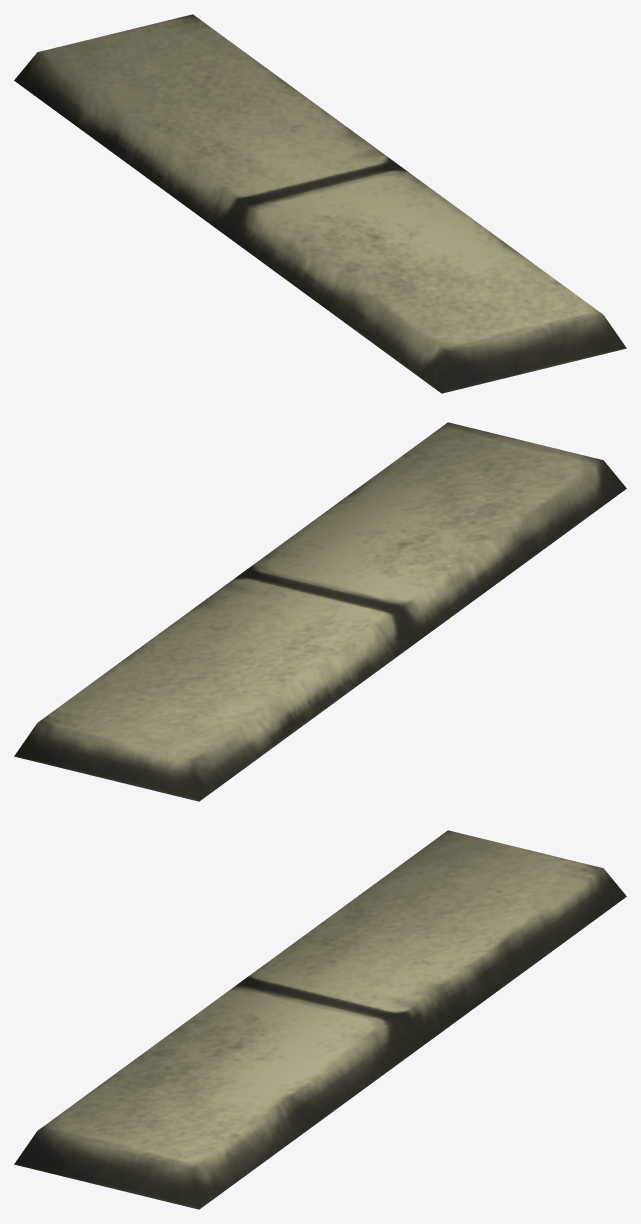
The model's file is 4x1ledge2.FBX.
3 views of the same model, one above another, from view 1: azimuth 30°, elevation 25°; view 2: azimuth 150°, elevation 25°; view 3: azimuth 330°, elevation 25° (orthographic).
Parts seen in each view (by area): view 1: Object025; view 2: Object025; view 3: Object025.
Part boxes in pixels (x1,y1,x2,y2): Object025: (14, 14, 626, 393); Object025: (14, 422, 626, 801); Object025: (14, 830, 626, 1209).
Size of the model in its own units: 6.25 by 1 by 25.
